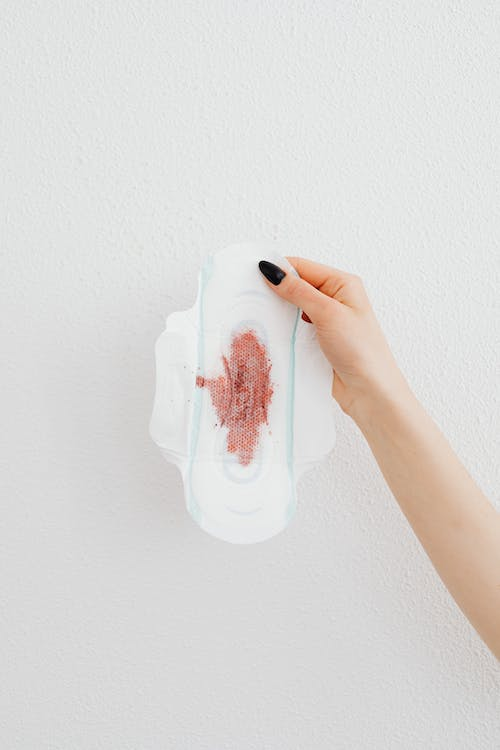blood: (195, 326, 276, 471)
